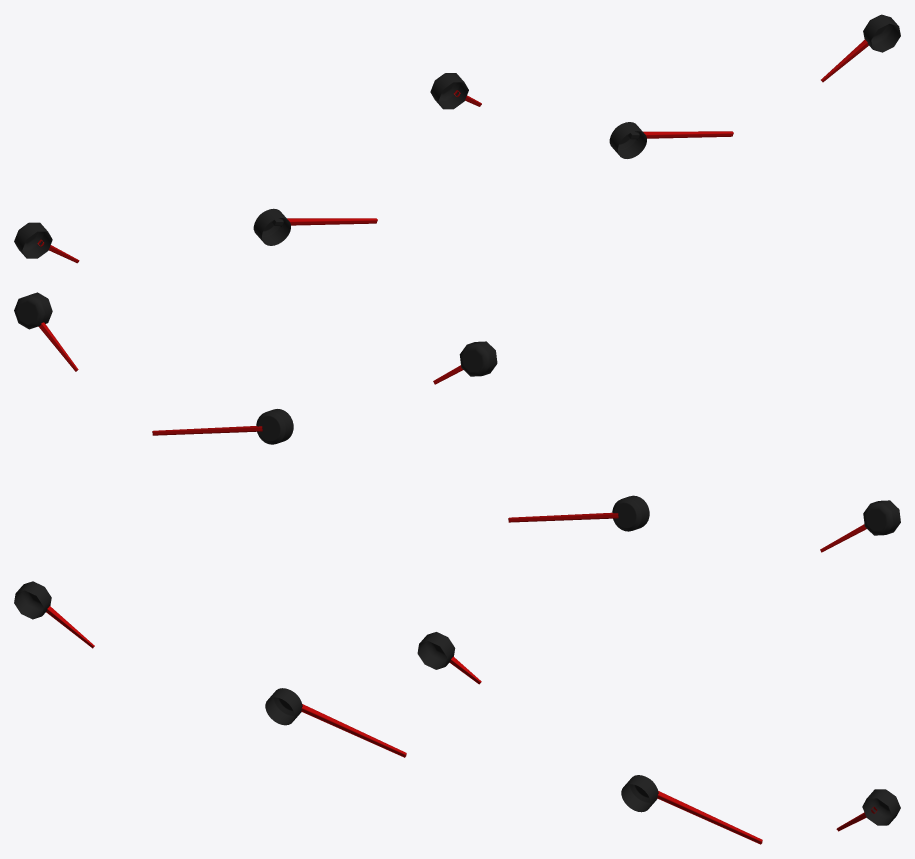
Rendered from Toyota_MR2_Inst.fbx.
3 views of the same model, one above another, from view 1: azimuth 30°, elevation 25°; view 2: azimuth 150°, elevation 25°; view 3: azimuth 330°, elevation 25° (orthographic).
Parts seen in each view (by area): view 1: PointerNeedle1a, PointerNeedle4a, PointerNeedle2a, PointerNeedle5a, PointerNeedle3a, PointerNeedle2b, PointerNeedle4b; view 2: PointerNeedle5a, PointerNeedle3a, PointerNeedle4a, PointerNeedle1a, PointerNeedle2a, PointerNeedle2b, PointerNeedle4b; view 3: PointerNeedle5a, PointerNeedle3a, PointerNeedle1a, PointerNeedle4a, PointerNeedle2a, PointerNeedle4b, PointerNeedle2b.
Part boxes in pixels (bbox=[...]): PointerNeedle1a: bbox=[863, 14, 900, 52]; PointerNeedle4a: bbox=[253, 208, 290, 245]; PointerNeedle2a: bbox=[609, 122, 646, 158]; PointerNeedle5a: bbox=[14, 222, 52, 258]; PointerNeedle3a: bbox=[430, 73, 468, 109]; PointerNeedle2b: bbox=[643, 131, 733, 138]; PointerNeedle4b: bbox=[287, 218, 377, 225]; PointerNeedle5a: bbox=[863, 500, 900, 535]; PointerNeedle3a: bbox=[459, 341, 497, 376]; PointerNeedle4a: bbox=[612, 495, 649, 531]; PointerNeedle1a: bbox=[14, 292, 52, 329]; PointerNeedle2a: bbox=[256, 409, 293, 444]; PointerNeedle2b: bbox=[152, 426, 262, 435]; PointerNeedle4b: bbox=[508, 512, 618, 522]; PointerNeedle5a: bbox=[14, 581, 51, 619]; PointerNeedle3a: bbox=[417, 632, 455, 669]; PointerNeedle1a: bbox=[862, 789, 900, 825]; PointerNeedle4a: bbox=[265, 688, 302, 725]; PointerNeedle2a: bbox=[621, 775, 658, 812]; PointerNeedle4b: bbox=[301, 704, 406, 757]; PointerNeedle2b: bbox=[657, 791, 762, 844].
Bounding box in the file's own units: 35.86 × 5.93 × 1.99.
